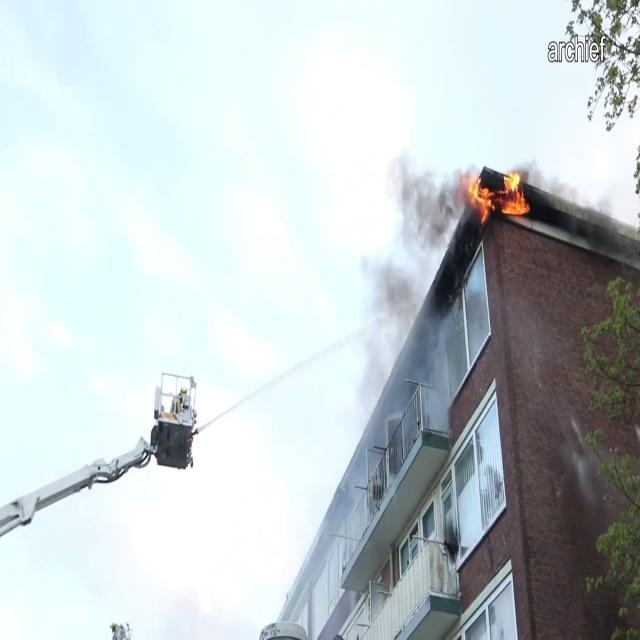Fire: (463, 167, 530, 230)
Smoke: (372, 137, 464, 428)
